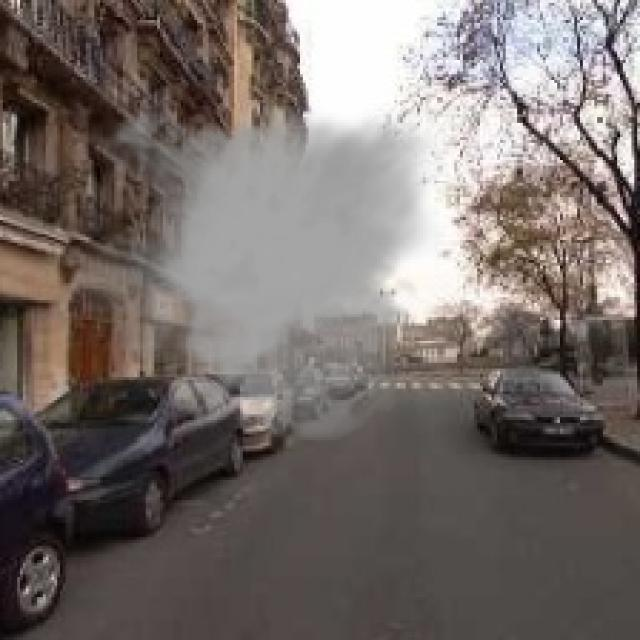smoke: (68, 100, 446, 446)
